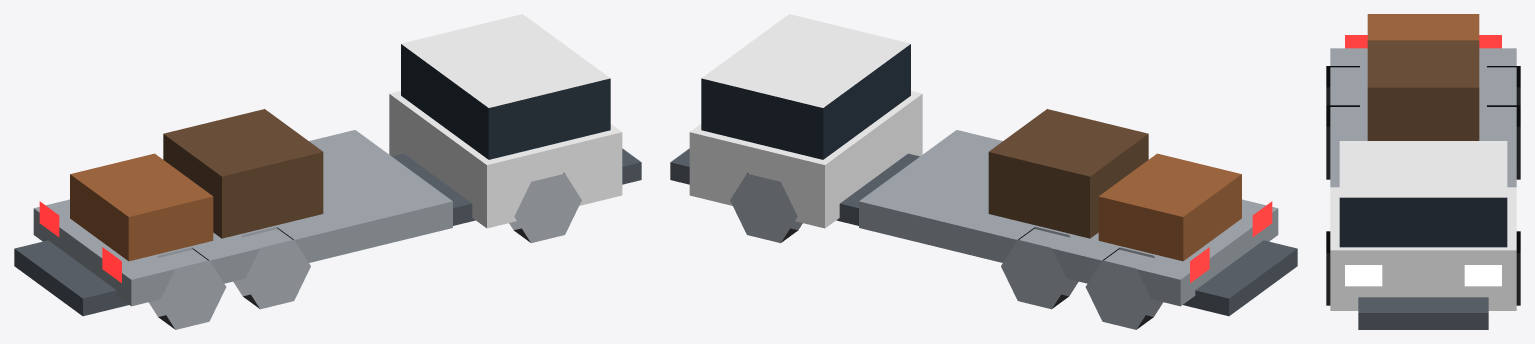
The model's file is truck_flatbed.glb.
The picture shows the model from 3 angles, left to right: view 1: azimuth 30°, elevation 25°; view 2: azimuth 150°, elevation 25°; view 3: azimuth 270°, elevation 25°; orthographic projection. The views are drawn at different scales.
Visible parts, largest first — view 1: truck_flatbed; view 2: truck_flatbed; view 3: truck_flatbed.
Boxes of the visible parts, <box> form: truck_flatbed: <box>14,14,641,329</box>; truck_flatbed: <box>670,14,1297,329</box>; truck_flatbed: <box>1326,14,1520,329</box>.
Bounding box in the file's own units: 0.66 × 0.1566 × 0.208.
